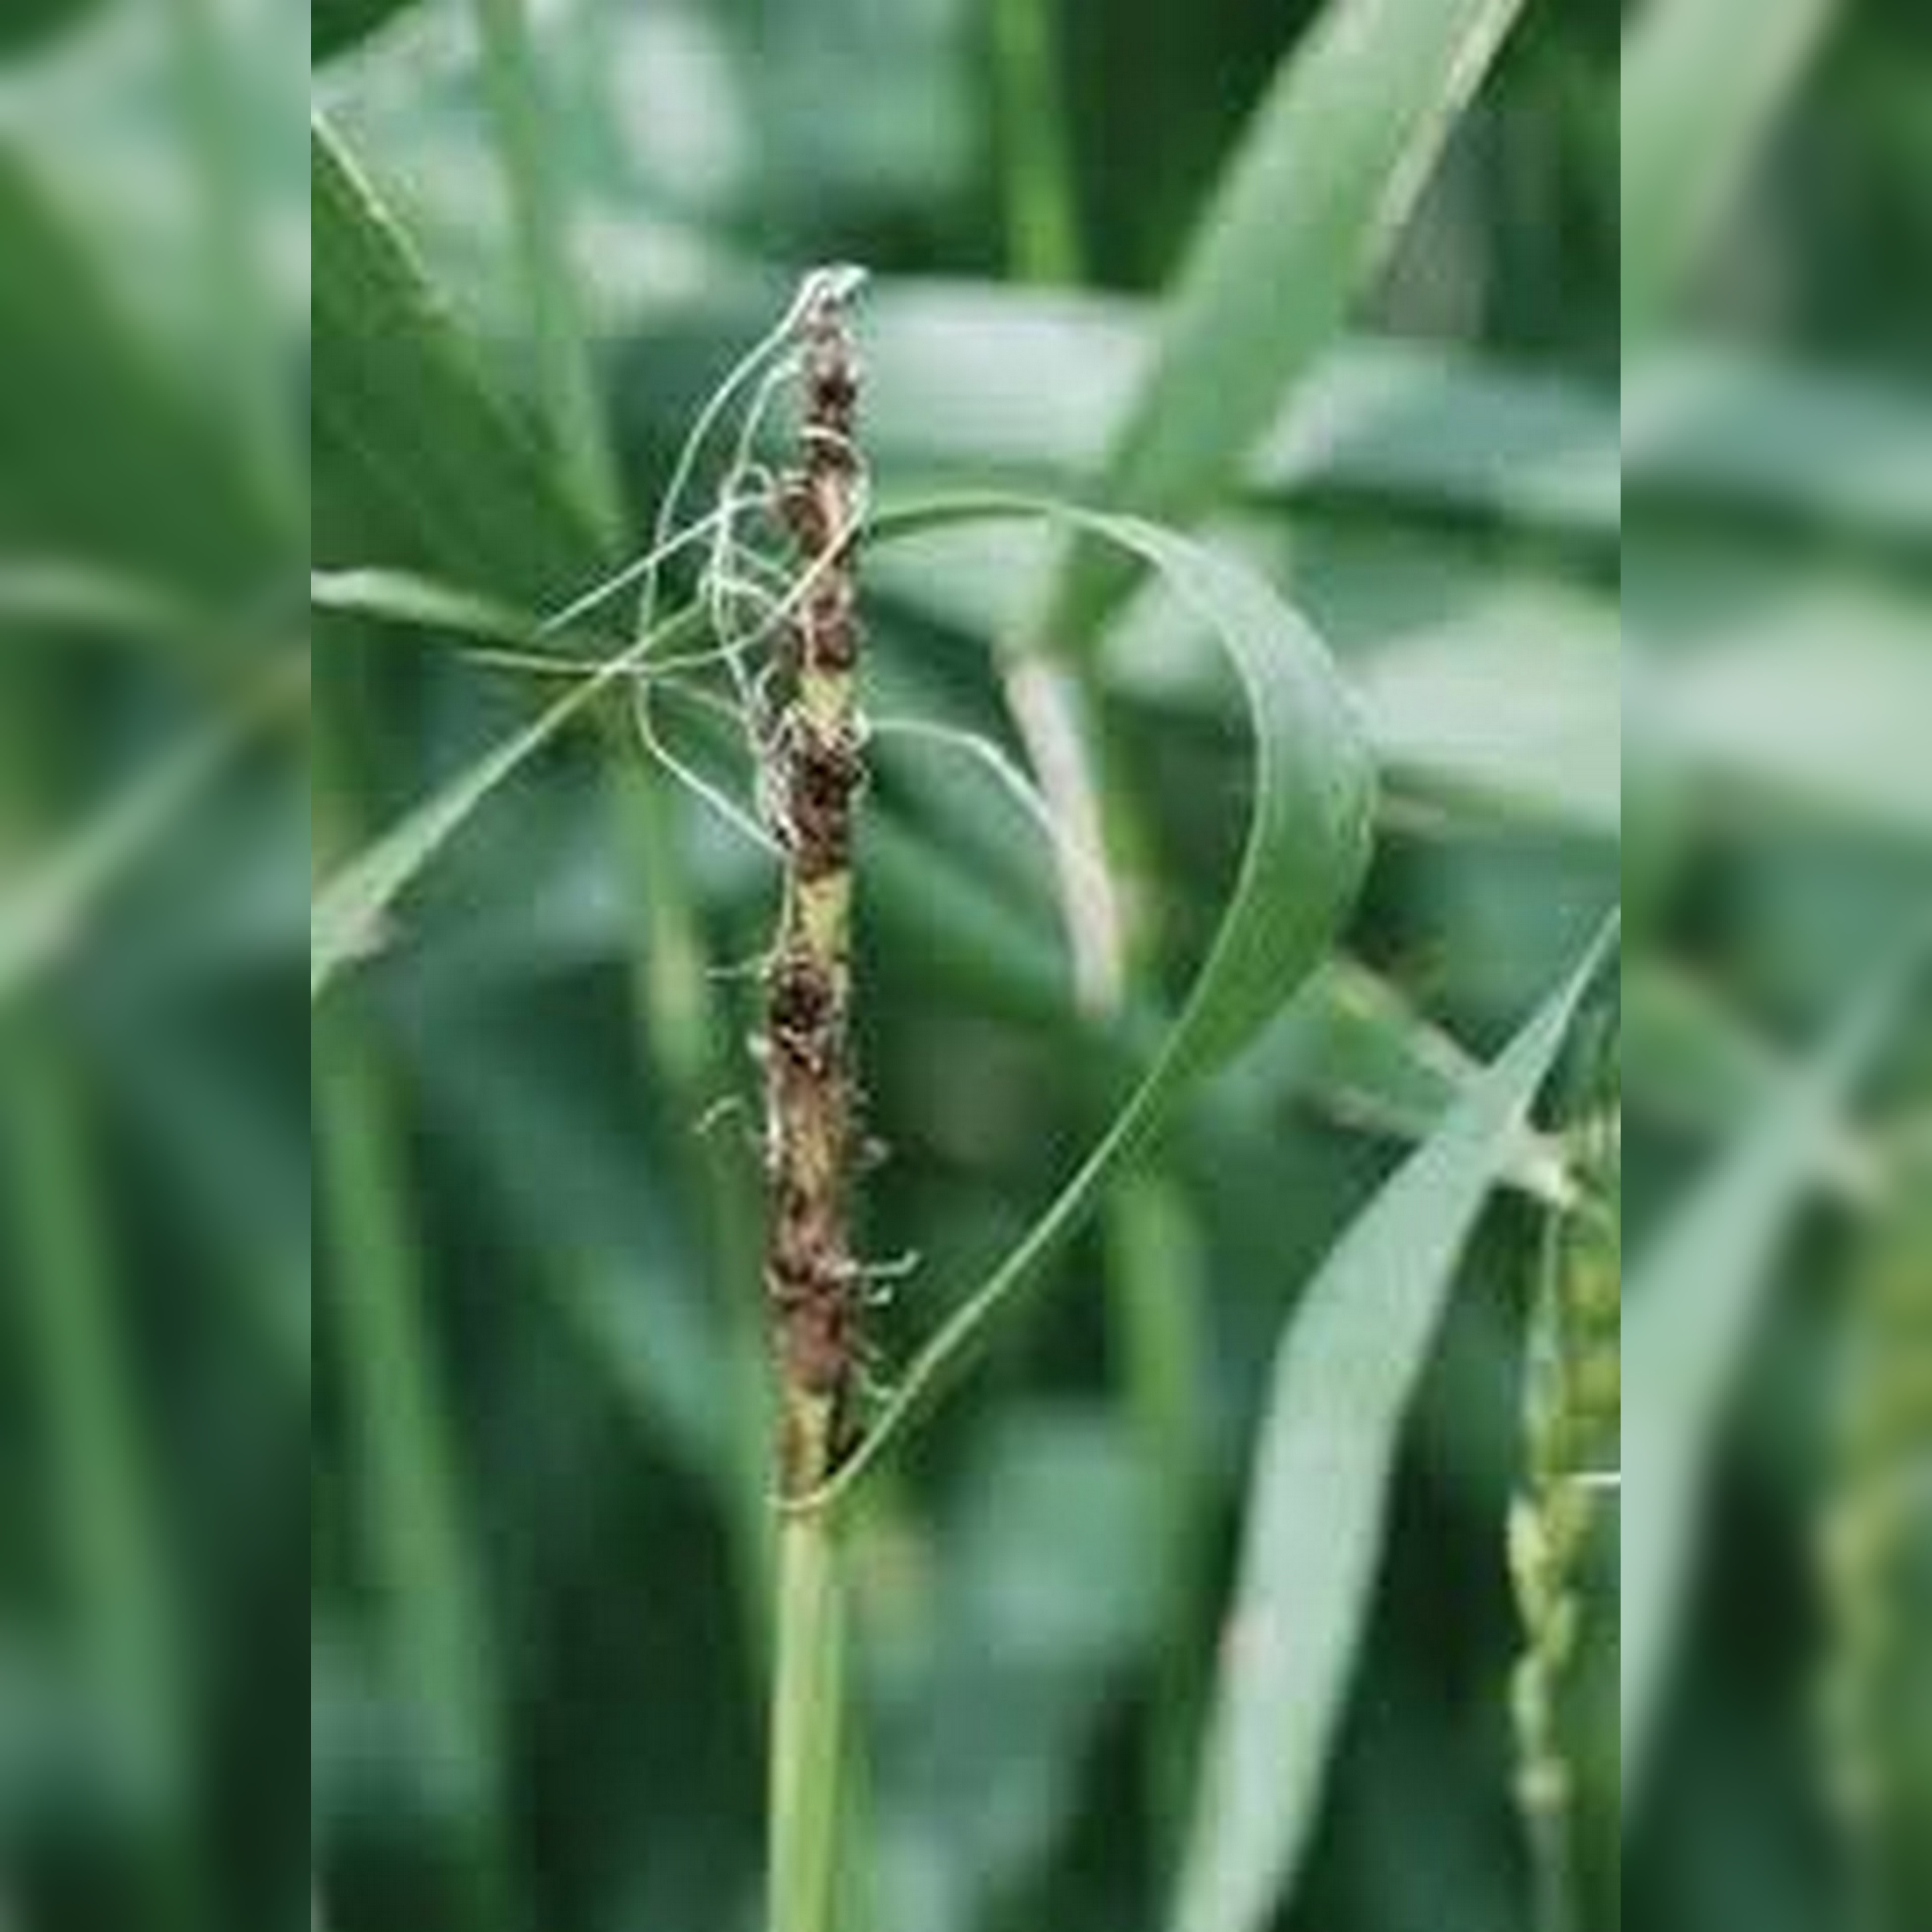Wheat Loose Smut: (699, 265, 913, 1426)
